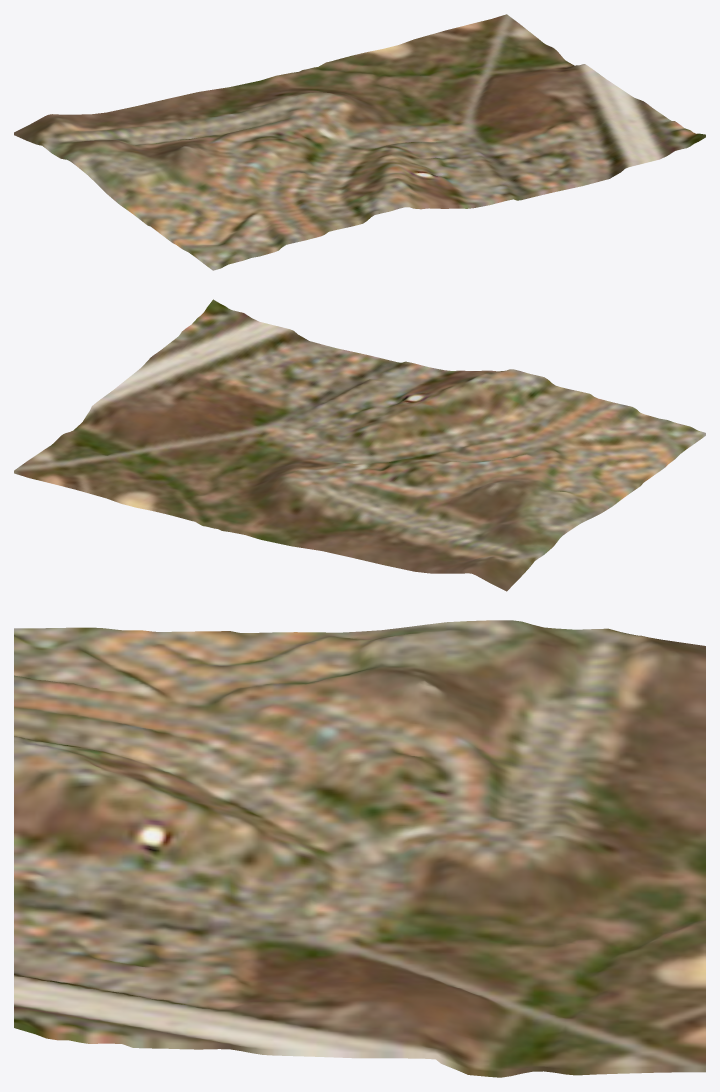
The model's file is terrain_r0_c7_lod1.glb.
3 views of the same model, one above another, from view 1: azimuth 30°, elevation 25°; view 2: azimuth 150°, elevation 25°; view 3: azimuth 270°, elevation 25° (orthographic). The views are drawn at different scales.
Parts seen in each view (by area): view 1: terrain_r0_c7_lod1; view 2: terrain_r0_c7_lod1; view 3: terrain_r0_c7_lod1.
Boxes of the visible parts, left/top/right/bottom form: terrain_r0_c7_lod1: left=14, top=14, right=705, bottom=270; terrain_r0_c7_lod1: left=14, top=299, right=705, bottom=591; terrain_r0_c7_lod1: left=14, top=620, right=705, bottom=1077.
Bounding box in the file's own units: 1125 × 84.67 × 787.
Materials: 1 (1 with a texture image).
